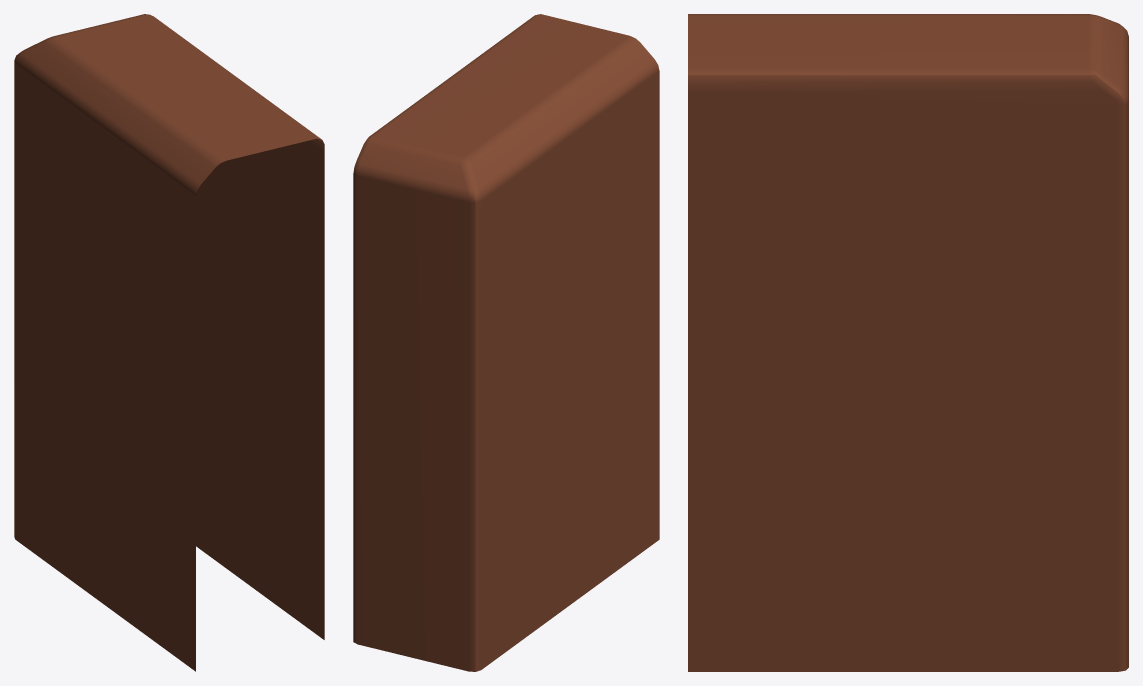
The model's file is Wall_02.fbx.
3 renders of one model, left to right at view 1: azimuth 30°, elevation 25°; view 2: azimuth 150°, elevation 25°; view 3: azimuth 270°, elevation 25°, orthographic. The views are drawn at different scales.
Parts seen in each view (by area): view 1: Wall; view 2: Wall; view 3: Wall.
Part boxes in pixels (x1,y1,x2,y2): Wall: [14, 14, 324, 671]; Wall: [353, 14, 659, 671]; Wall: [688, 14, 1128, 671].
Size of the model in its own units: 0.4005 by 1.5 by 1.
1 material, 1 textured.
